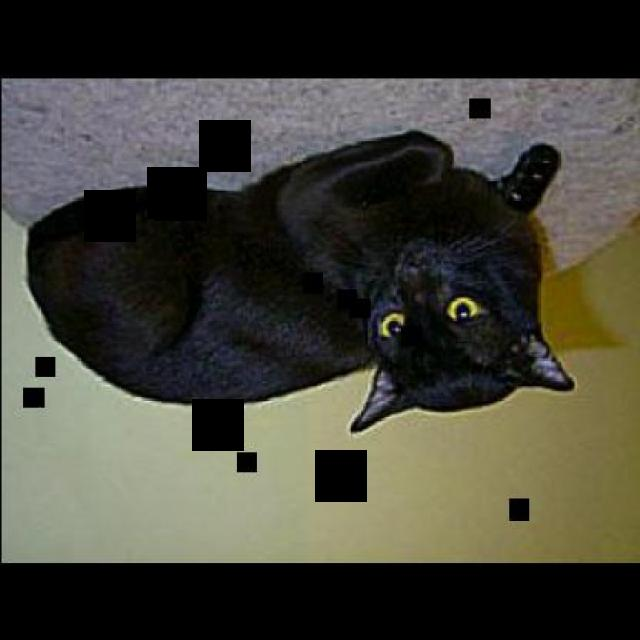unauthorized: (24, 128, 576, 434)
